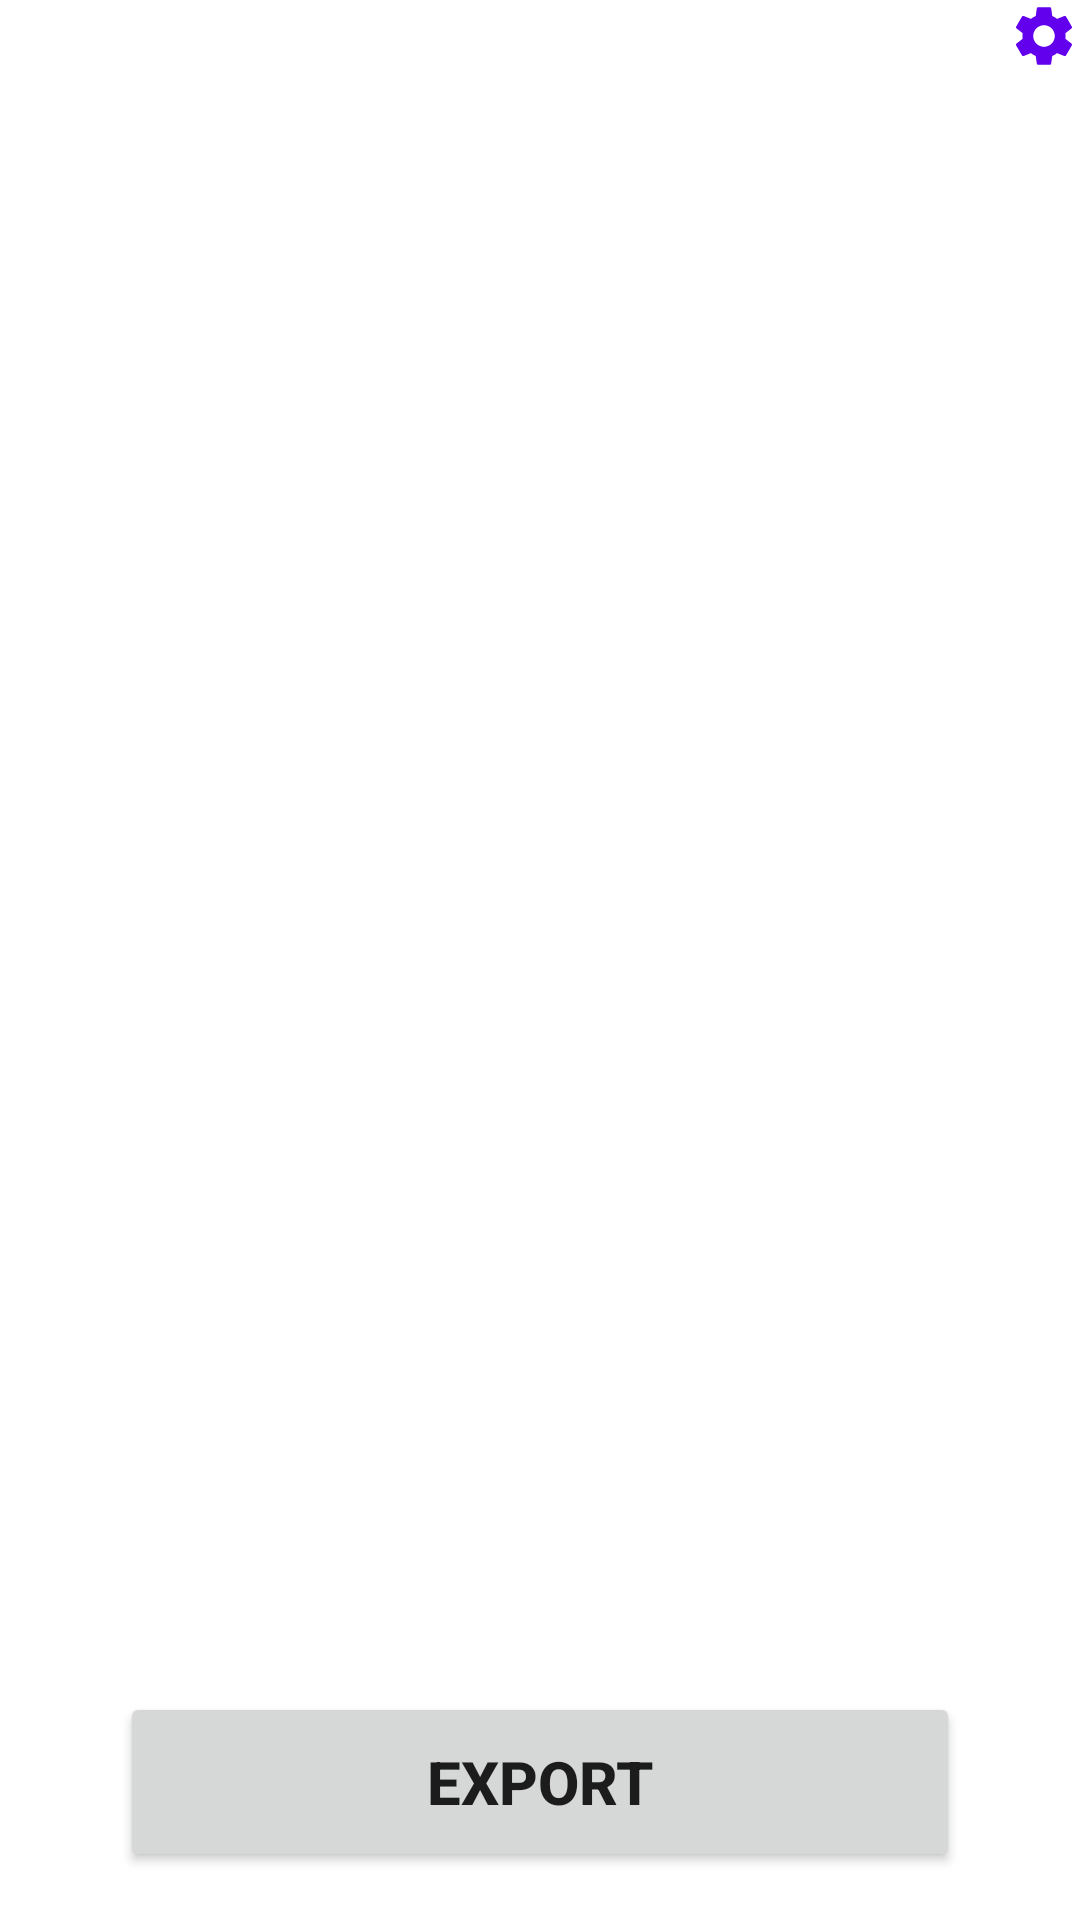

Point at icon controls on the screen. Image size 1080*1920, points as (x,y).
Settings: (1044,36)
